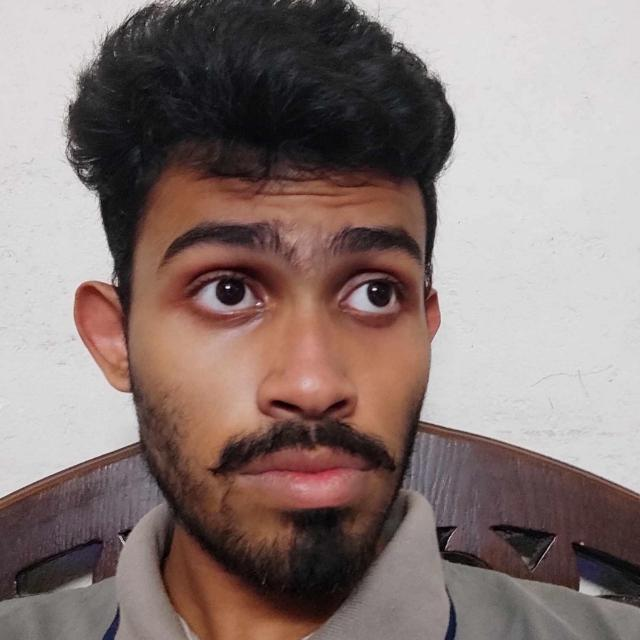happy: (48, 118, 487, 615)
